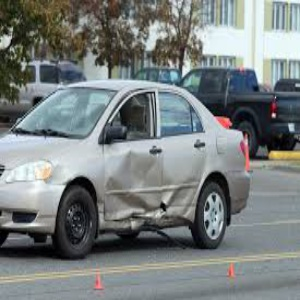door: (103, 148, 195, 228)
